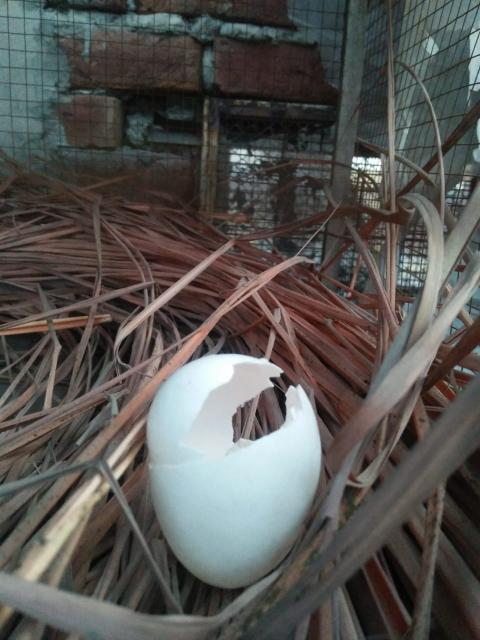Roto: (144, 352, 322, 589)
